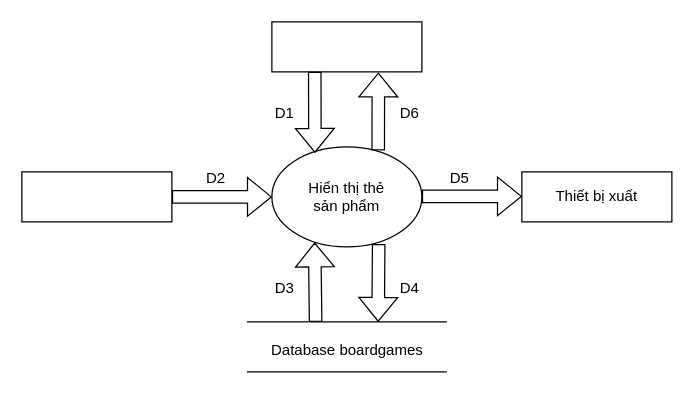
Some shapes in this 694 by 395 pixel diagram are drawn without their labels. Each missing label, with the centre of its shape:
"Khách hàng" belongs at (x=346, y=46).
"Thiết bị nhập" belongs at (x=96, y=196).
